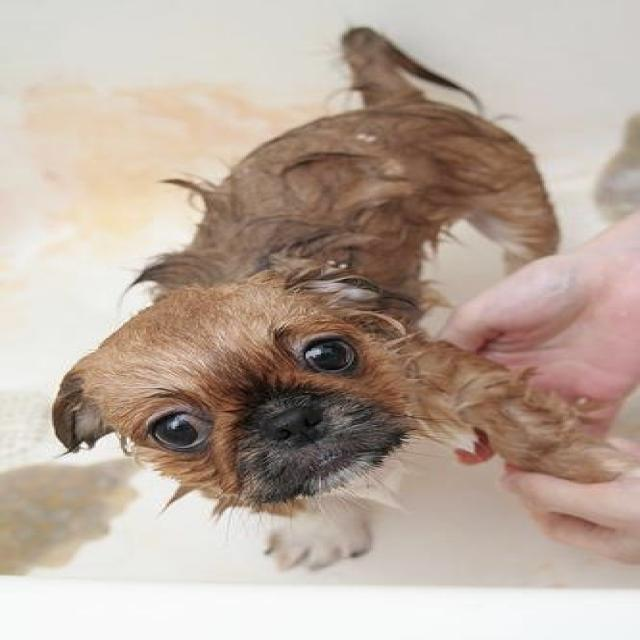pekinese: (48, 23, 632, 576)
